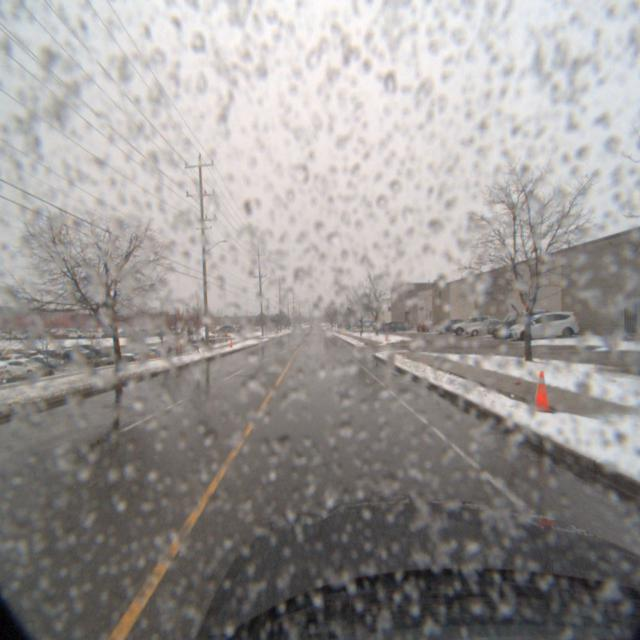Car: (505, 310, 585, 341), (488, 309, 558, 339), (450, 314, 496, 336), (464, 317, 514, 337)
